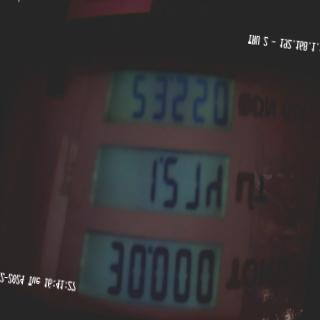screen: (71, 42, 255, 320)
